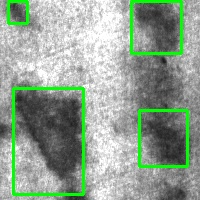patches: (13, 88, 83, 194), (139, 110, 187, 166), (131, 1, 181, 53), (8, 1, 27, 23)
